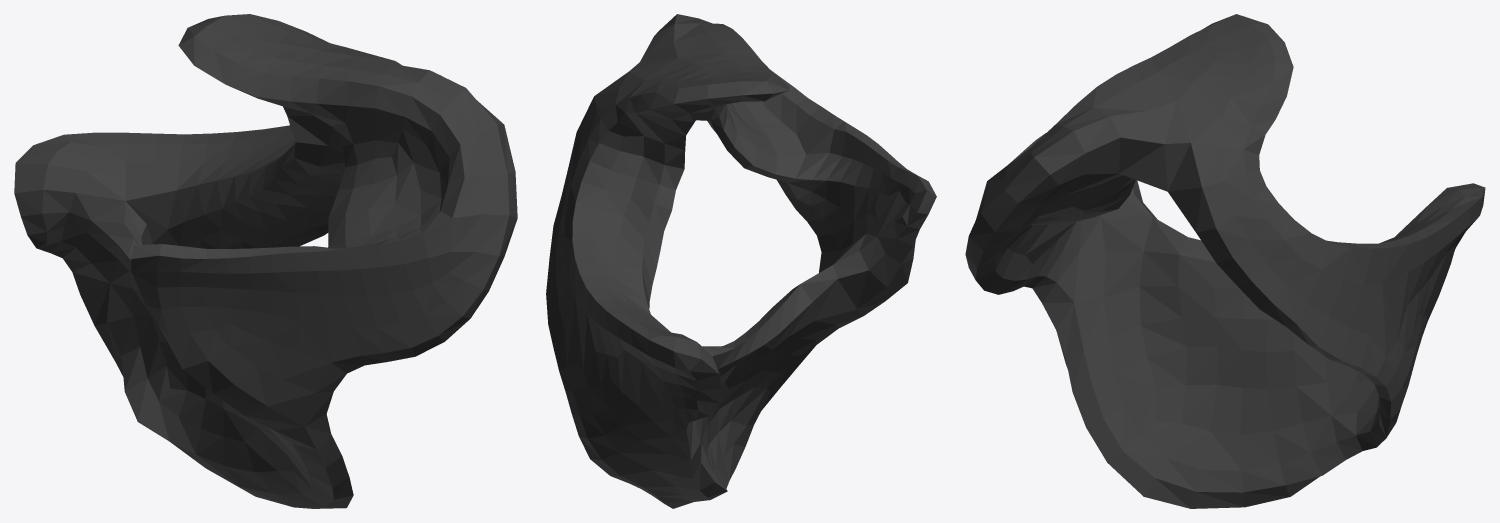
Rendered from R_sided_PULMONARY_VALVE.glb.
3 views of the same model, side by side, from view 1: azimuth 30°, elevation 25°; view 2: azimuth 150°, elevation 25°; view 3: azimuth 270°, elevation 25° (orthographic). The views are drawn at different scales.
Parts seen in each view (by area): view 1: R_sided_PULMONARY_VALVE; view 2: R_sided_PULMONARY_VALVE; view 3: R_sided_PULMONARY_VALVE.
Part boxes in pixels (x1,y1,x2,y2): R_sided_PULMONARY_VALVE: [14, 14, 517, 508]; R_sided_PULMONARY_VALVE: [546, 14, 936, 508]; R_sided_PULMONARY_VALVE: [965, 14, 1485, 508].
Bounding box in the file's own units: 1.95 × 2.59 × 2.67.
1 material, 1 textured.
